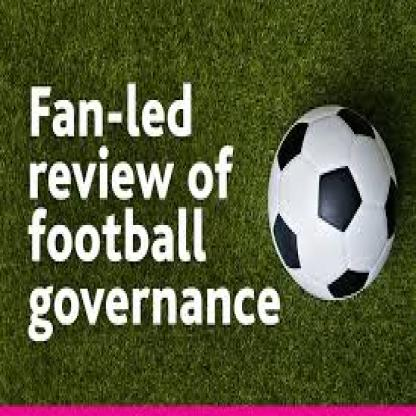ball: (267, 103, 400, 284)
